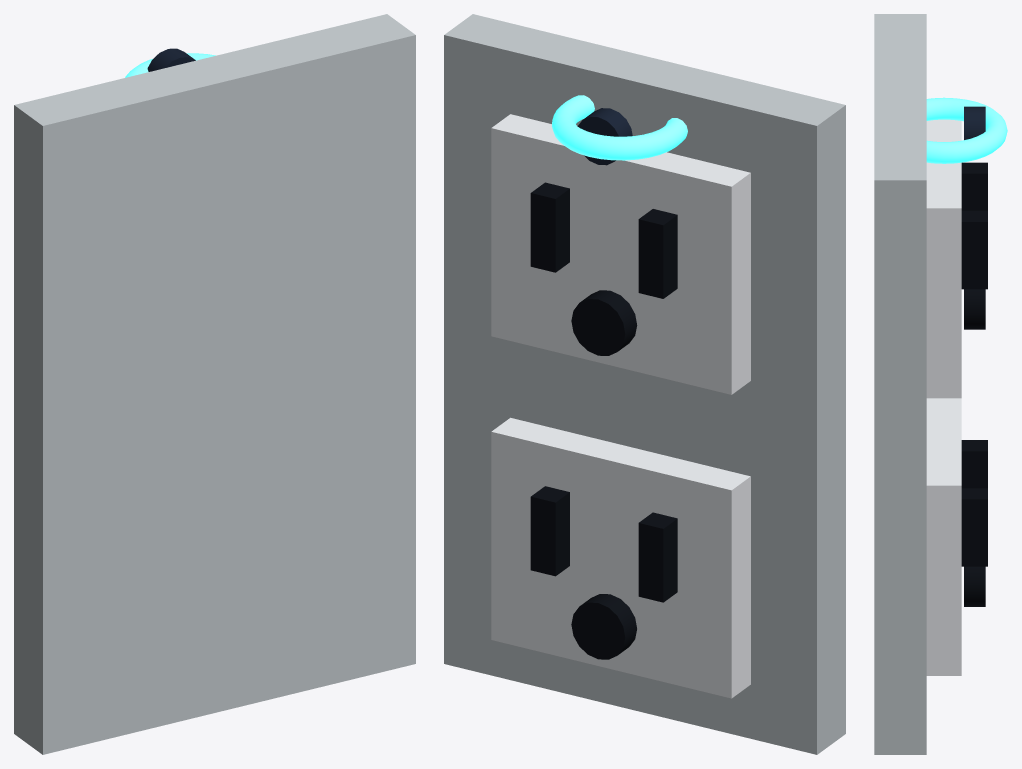
Rendered from outlet-smart.glb.
3 renders of one model, left to right at view 1: azimuth 30°, elevation 25°; view 2: azimuth 150°, elevation 25°; view 3: azimuth 270°, elevation 25°, orthographic. The views are drawn at different scales.
Parts seen in each view (by area): view 1: Smart duplex outlet; view 2: Smart duplex outlet; view 3: Smart duplex outlet.
Boxes of the visible parts, left/top/right/bottom form: Smart duplex outlet: left=14, top=14, right=415, bottom=754; Smart duplex outlet: left=444, top=14, right=845, bottom=754; Smart duplex outlet: left=874, top=14, right=1007, bottom=754.
Bounding box in the file's own units: 0.9 × 1.45 × 0.305.
